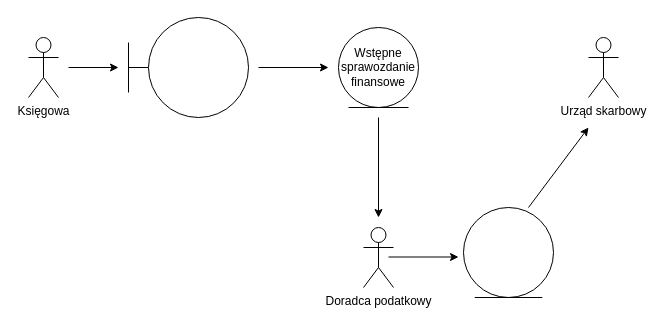
Image size: 663x326. Some labels were removed from this diagram. The box of each missing label's shape, as (x1, y1, x2, y2) in pixels:
Oprogramowanie księgowe: (128, 16, 248, 118)
Zweryfikowane sprawozdanie finansowe: (462, 206, 554, 298)
